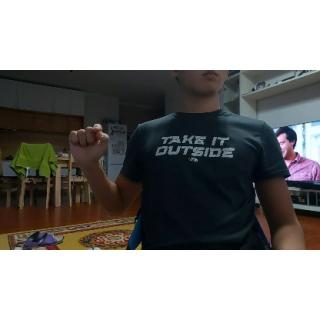FAA: (67, 121, 113, 168)
